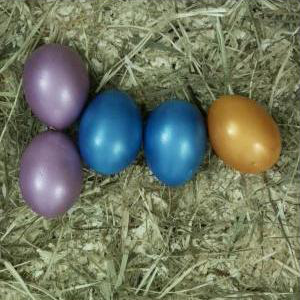egg: (207, 95, 282, 172), (23, 44, 90, 130), (19, 132, 84, 218), (79, 89, 143, 176), (146, 100, 206, 187)
